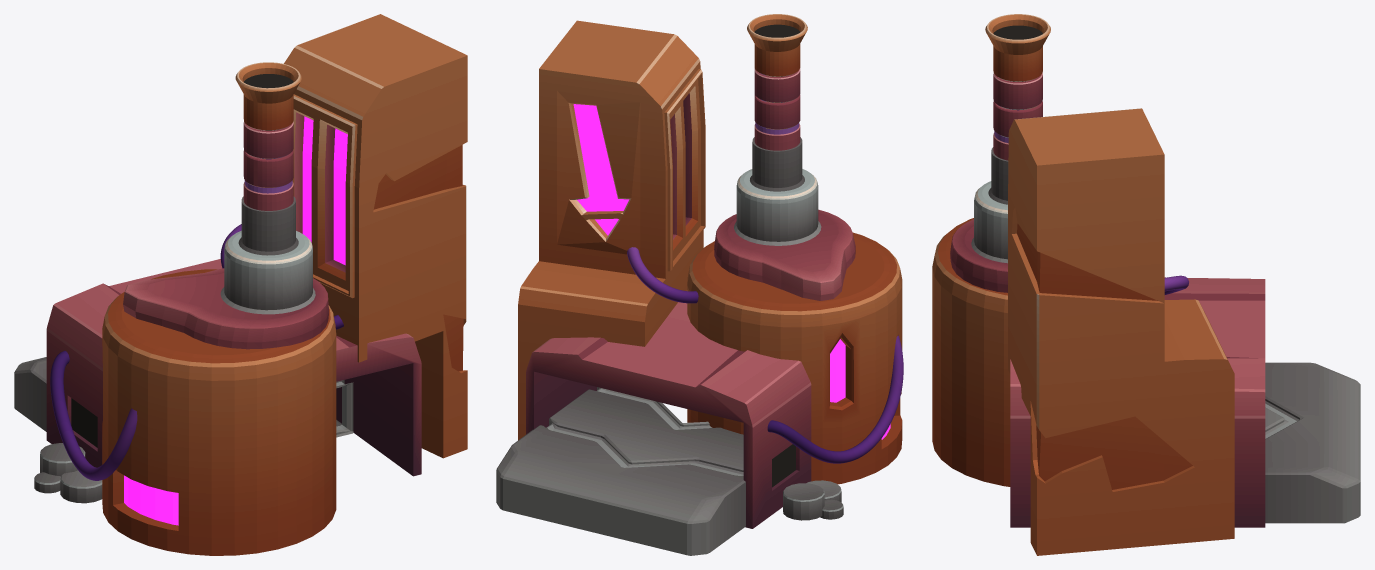
The model's file is TransferDown.glb.
3 renders of one model, left to right at view 1: azimuth 30°, elevation 25°; view 2: azimuth 150°, elevation 25°; view 3: azimuth 270°, elevation 25°, orthographic. The views are drawn at different scales.
Visible parts, largest first — view 1: Conveyor BeltStraight.001; view 2: Conveyor BeltStraight.001; view 3: Conveyor BeltStraight.001.
Boxes of the visible parts, x1=… form: Conveyor BeltStraight.001: x1=14, y1=14, x2=467, y2=555; Conveyor BeltStraight.001: x1=496, y1=14, x2=903, y2=555; Conveyor BeltStraight.001: x1=932, y1=14, x2=1360, y2=555.
Bounding box in the file's own units: 1.85 × 2.16 × 1.92.
Materials: 2 (1 with a texture image).
